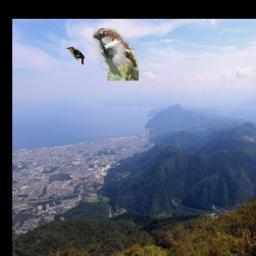Sparrow: (94, 28, 140, 81)
Woodpecker: (66, 46, 86, 65)
